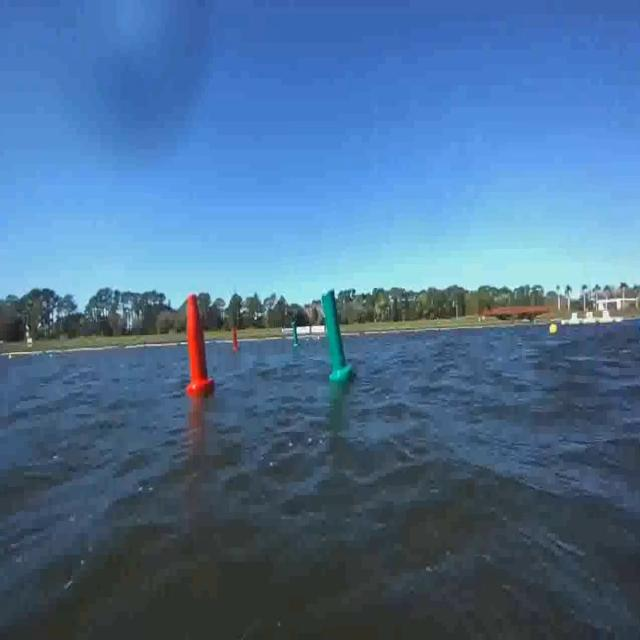green-column-buoy: (318, 289, 354, 384), (292, 324, 299, 348)
red-column-buoy: (184, 293, 214, 397), (233, 326, 241, 349)
yellow-buoy: (550, 324, 560, 340)
